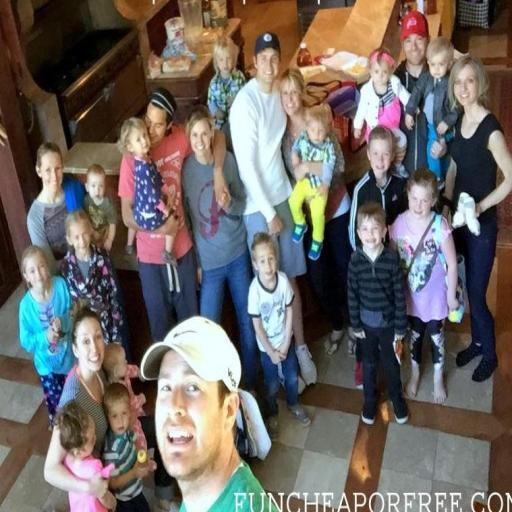person: (230, 32, 317, 384), (141, 318, 277, 511), (183, 107, 258, 389), (446, 56, 511, 381), (119, 88, 198, 341), (390, 170, 458, 403), (348, 203, 408, 425), (248, 233, 310, 439), (19, 246, 74, 427), (307, 136, 352, 354), (61, 210, 128, 347), (405, 37, 458, 185), (59, 301, 107, 457), (27, 142, 84, 273), (354, 48, 410, 177), (289, 105, 335, 259), (349, 127, 405, 250), (102, 383, 155, 511), (118, 118, 176, 231), (103, 343, 147, 448), (56, 402, 114, 479), (208, 37, 245, 148), (84, 164, 117, 251), (399, 110, 427, 175)
